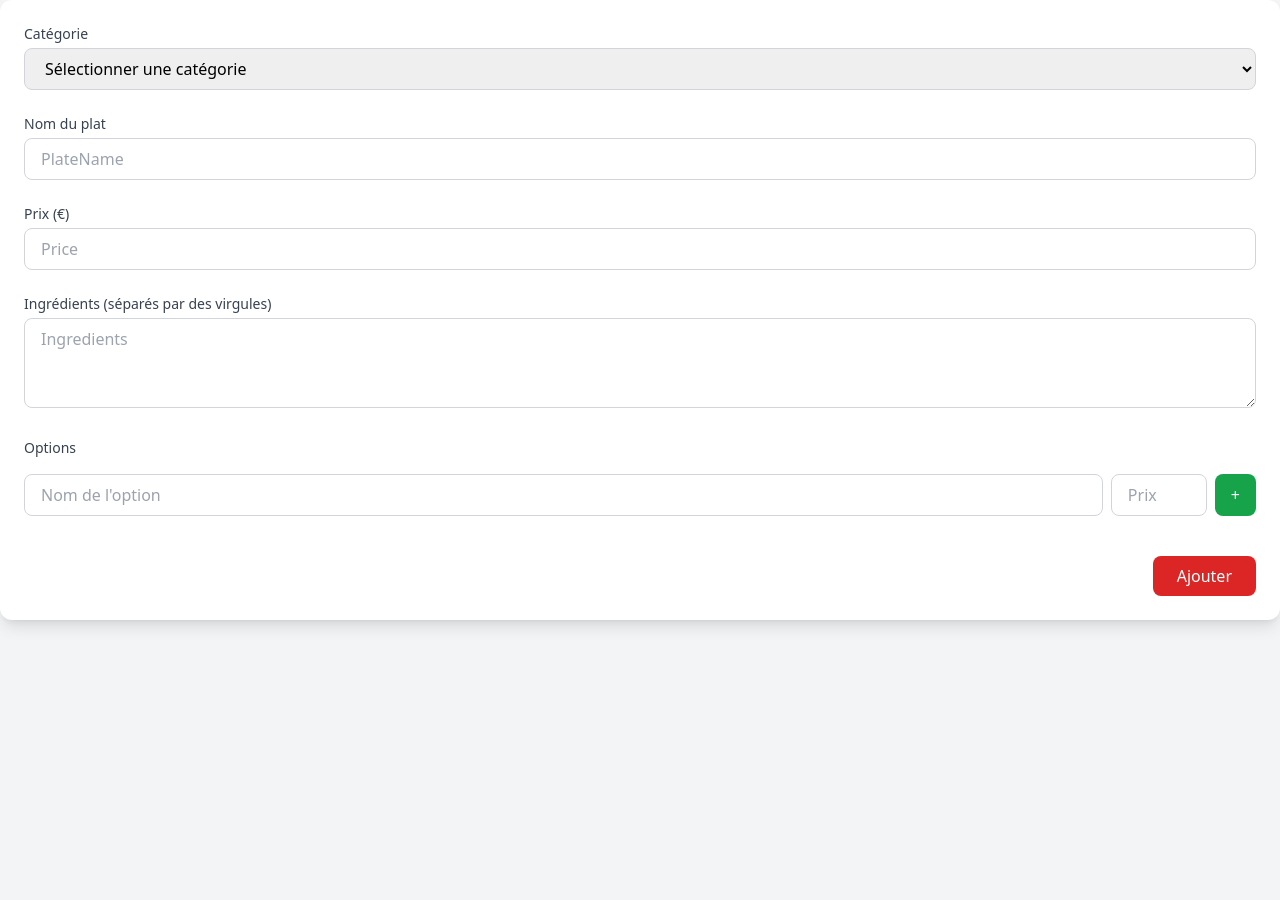
it: AddEditItem component › ajoute et supprime des options
The image size is (1280, 900).
// Ajout d'une option
Type "Supplément fromage" into the field with placeholder "Nom de l'option" at (563, 495), box [24,474,1103,516]
Type "1.00" into the number field with placeholder "Prix" at (1159, 495), box [1111,474,1207,516]
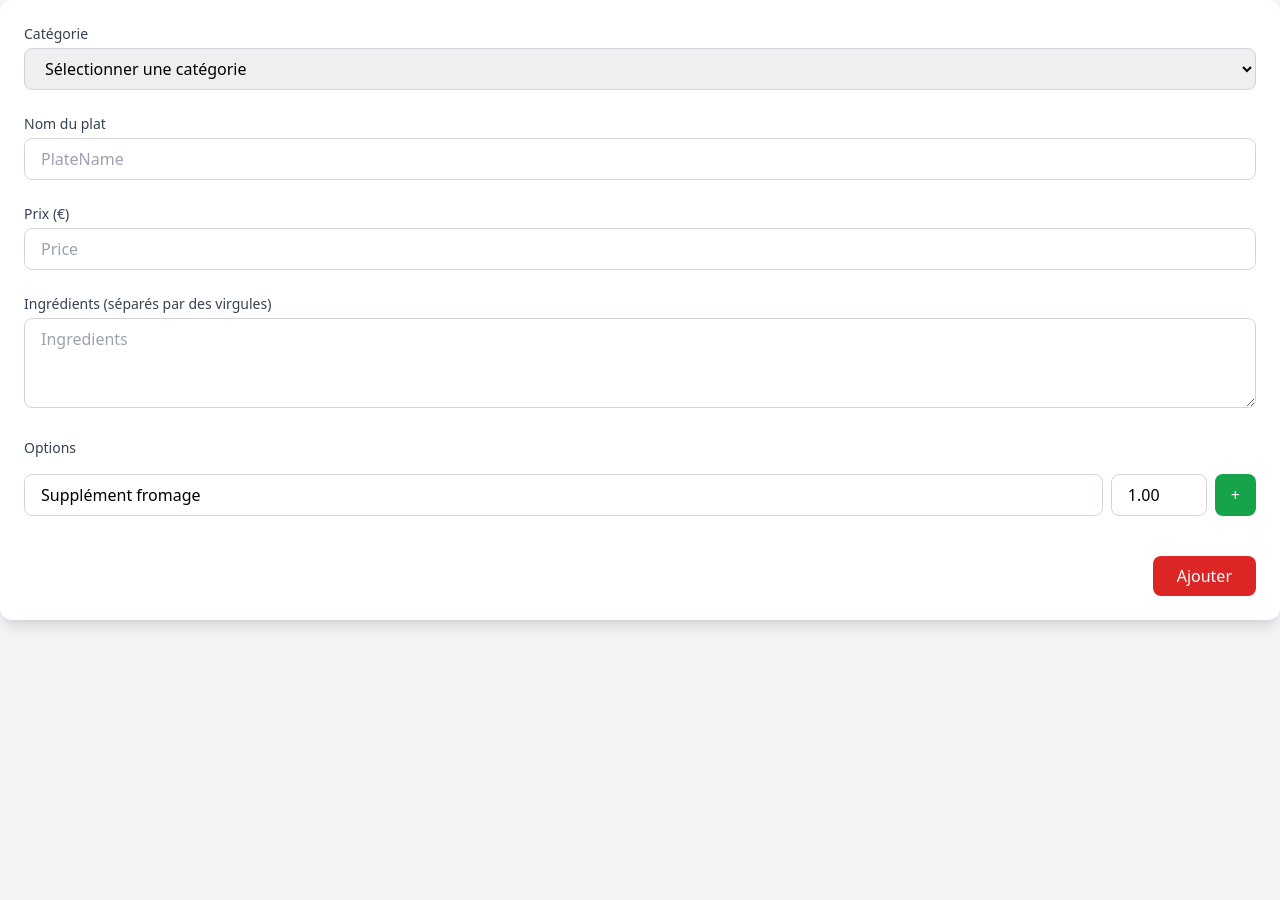
Click the button "+" at (1235, 495), box [1215,474,1256,516]
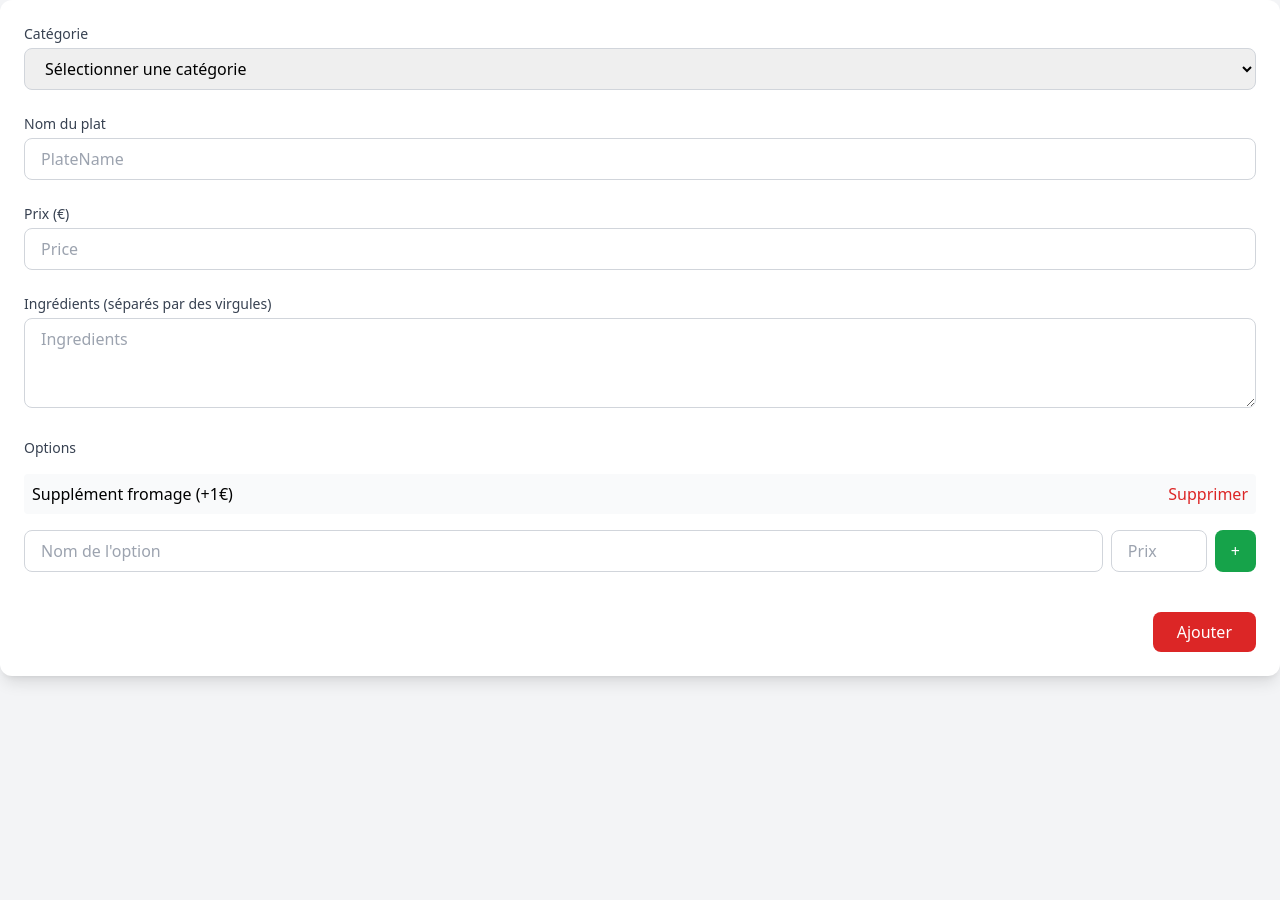
expect the text "Supplément fromage (+1€)" is shown: met, box [32,482,233,506]
// Ajout d'une autre option
Type "Supplément bacon" into the field with placeholder "Nom de l'option" at (563, 551), box [24,530,1103,572]
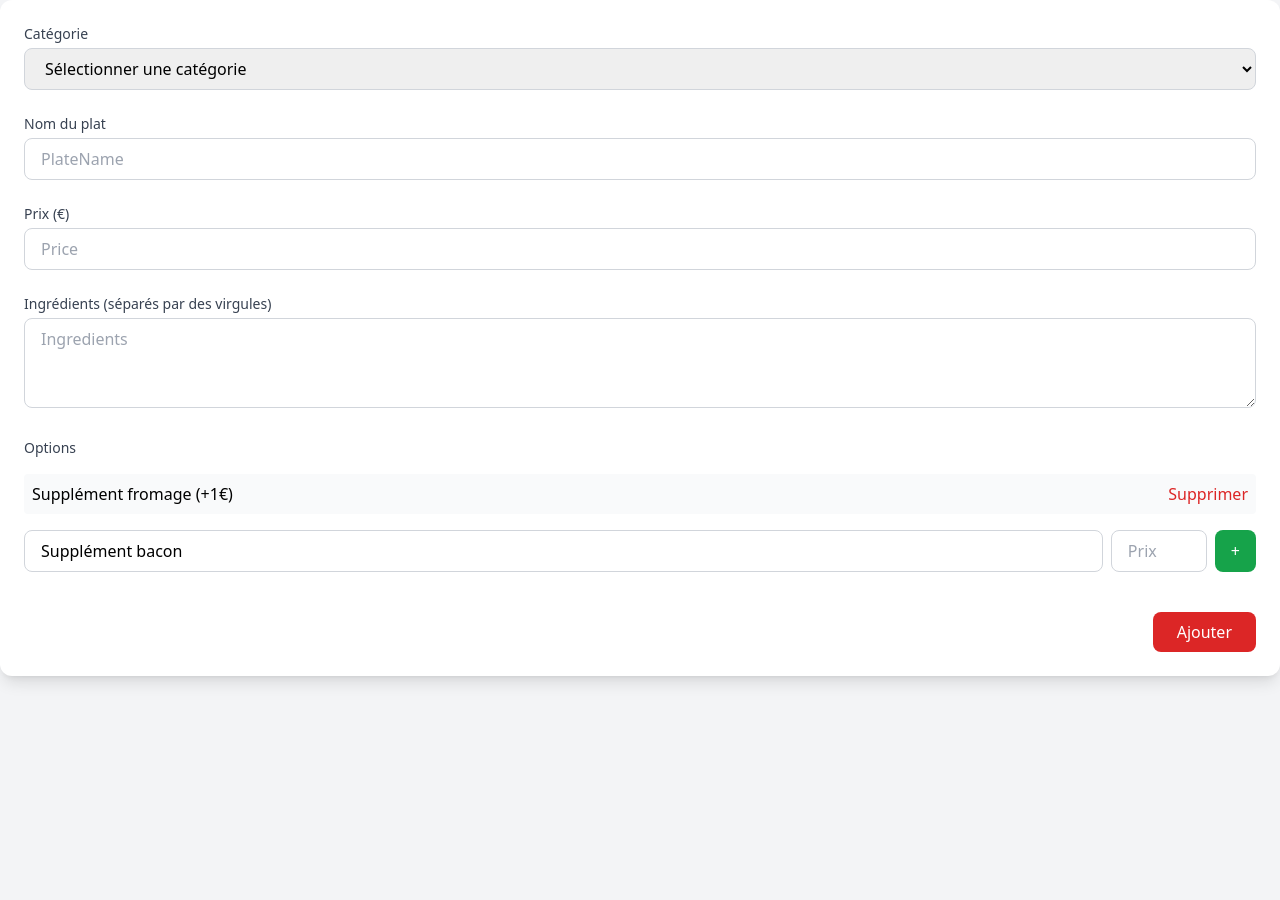
Type "1.50" into the number field with placeholder "Prix" at (1159, 551), box [1111,530,1207,572]
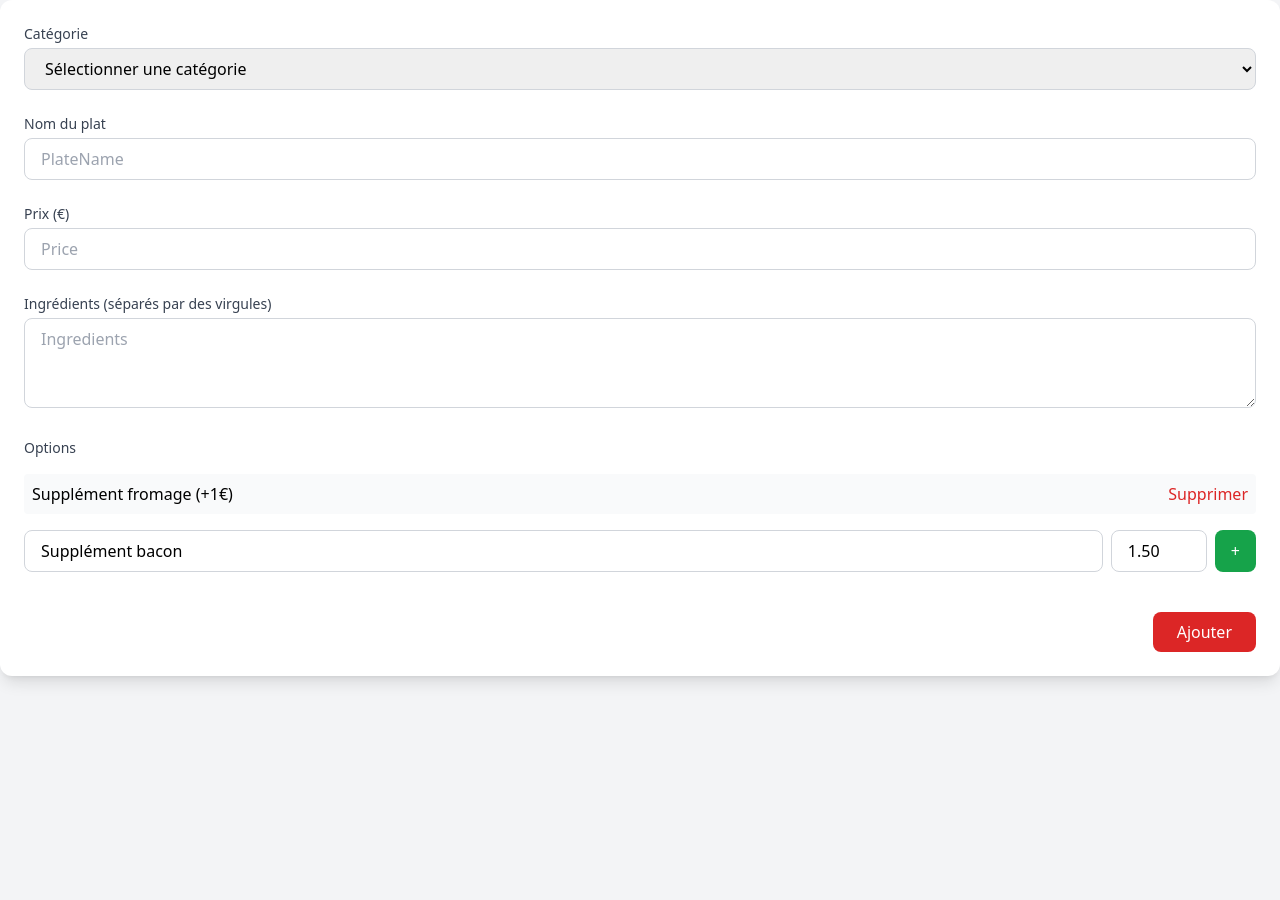
Click the button "+" at (1235, 551), box [1215,530,1256,572]
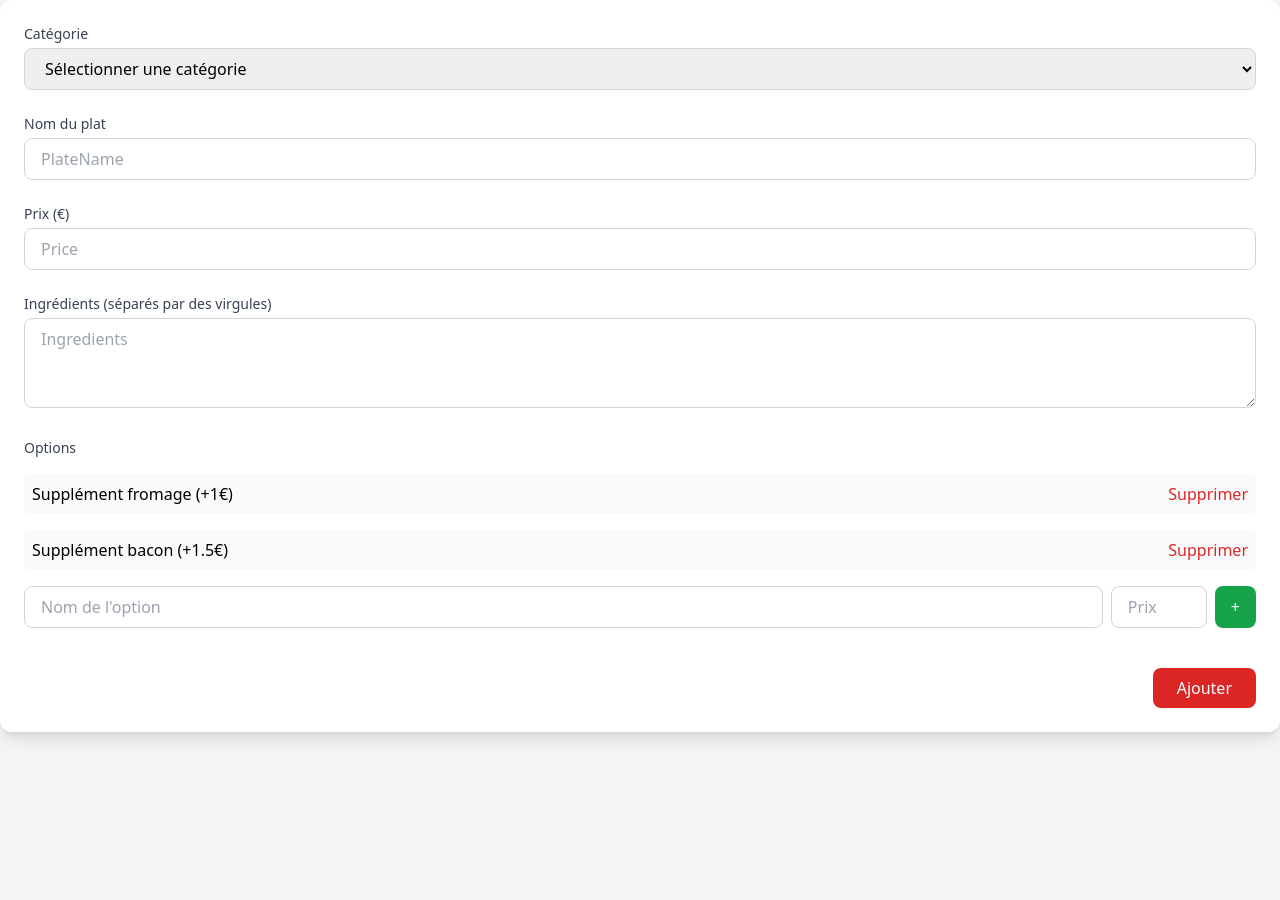
expect the text "Supplément bacon (+1.5€)" is shown: met, box [32,538,228,562]
// Suppression de l'option "Supplément fromage"
Click the button "Supprimer" in the row of "Supplément fromage" at (1208, 494), box [1168,482,1248,506]
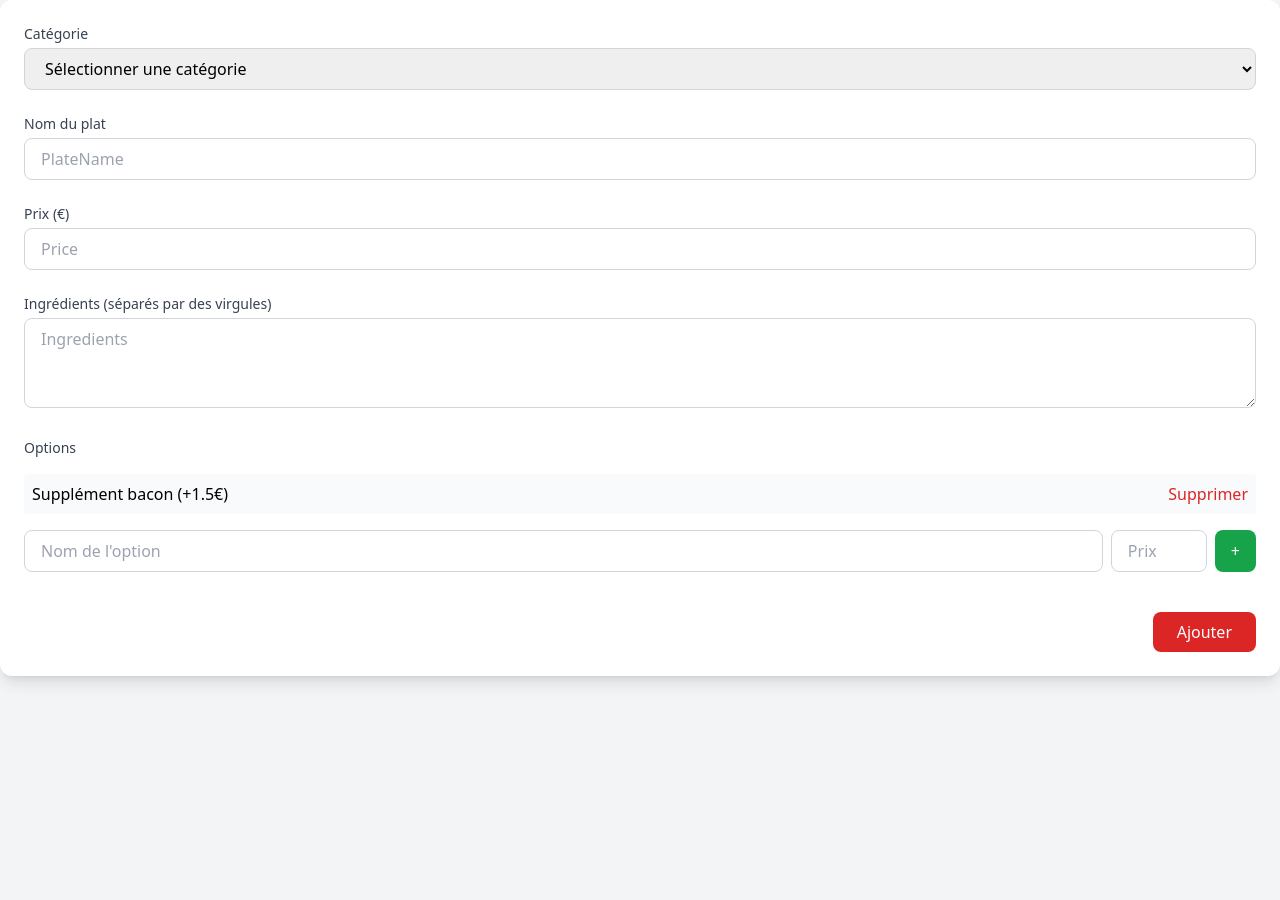
expect the text "Supplément fromage (+1€)" is gone: met
expect the text "Supplément bacon (+1.5€)" is shown: met, box [32,482,228,506]
